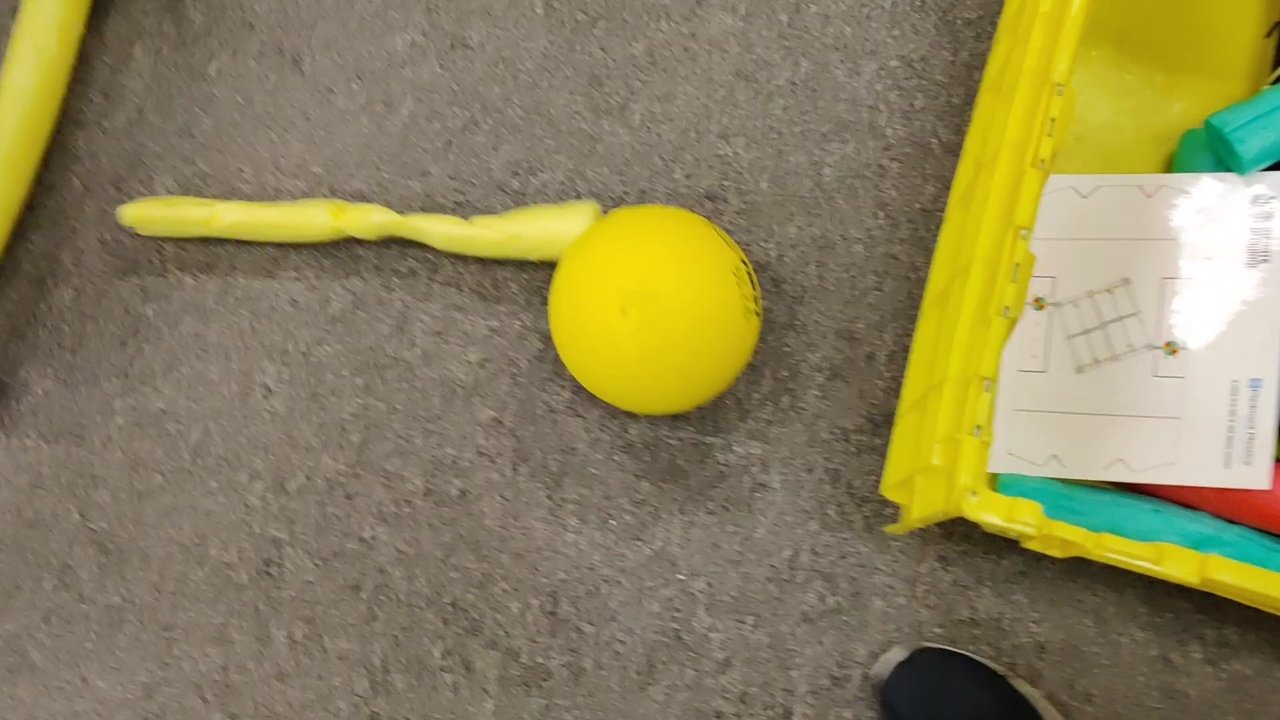Ball: (546, 200, 773, 422)
